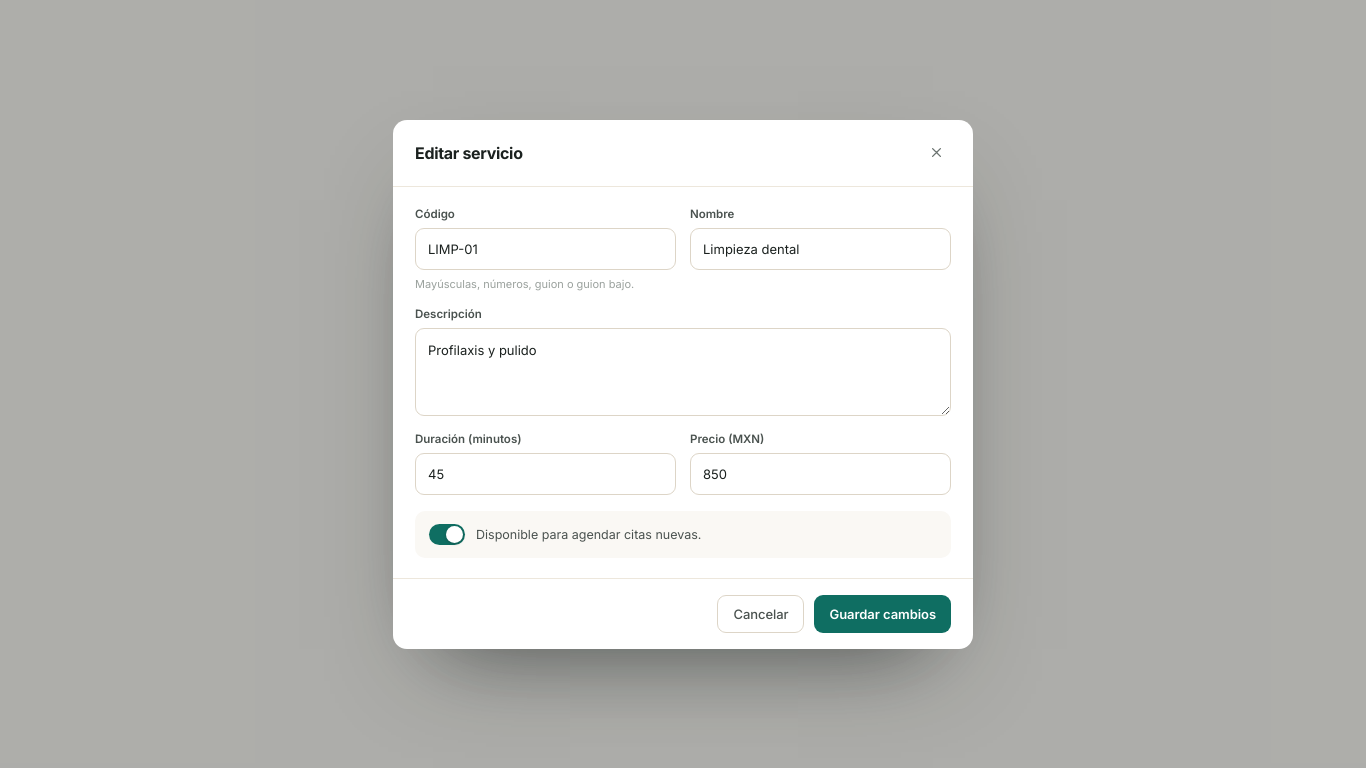
Test: ServiceFormModal failures › disables the action while the save is in flight
This screenshot has width=1366, height=768.
Click the button "Guardar cambios" at coordinates (883, 614), box [814,594,951,632]
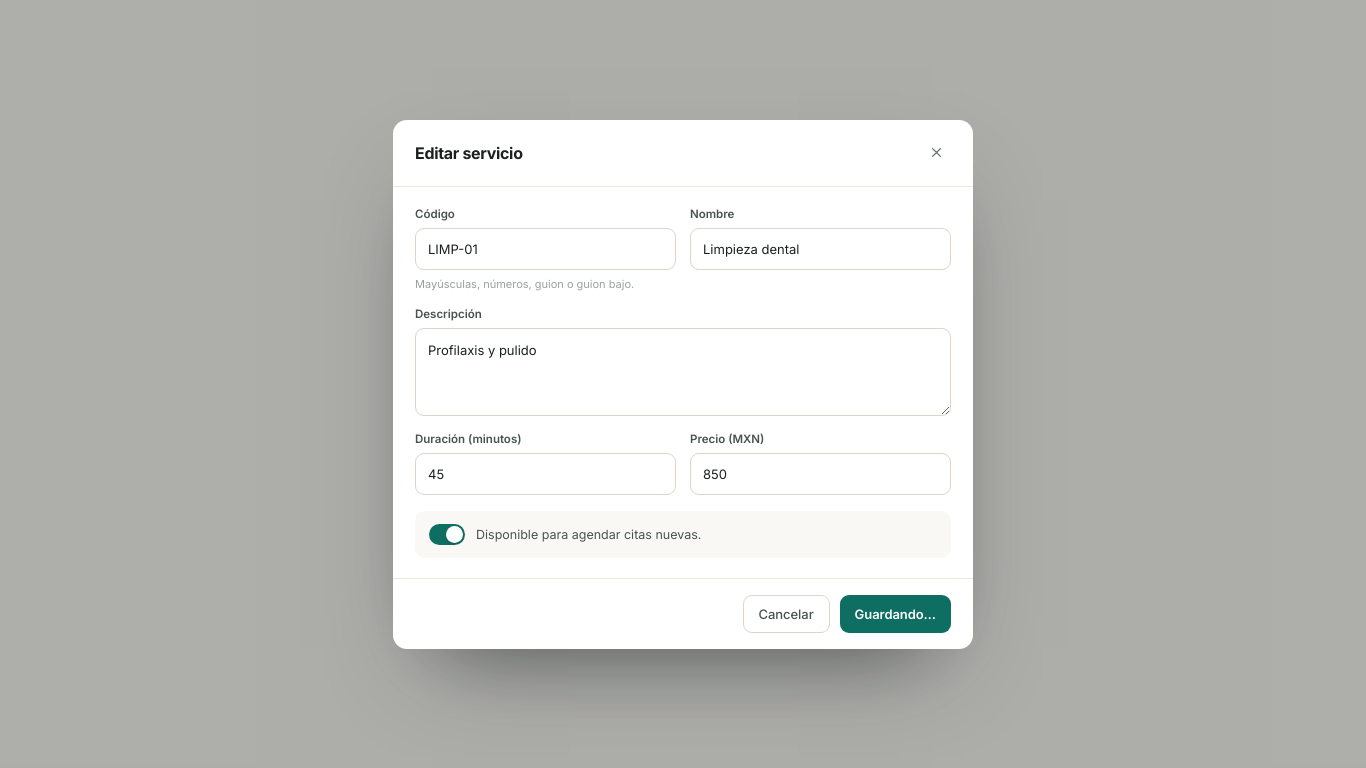
Expected: the button "Guardando…" is disabled, [840,594,951,632]
